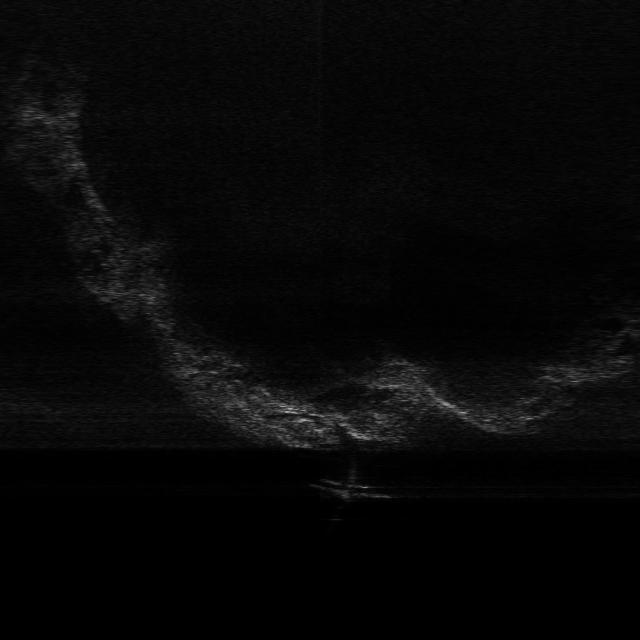plane: (310, 475, 390, 503)
